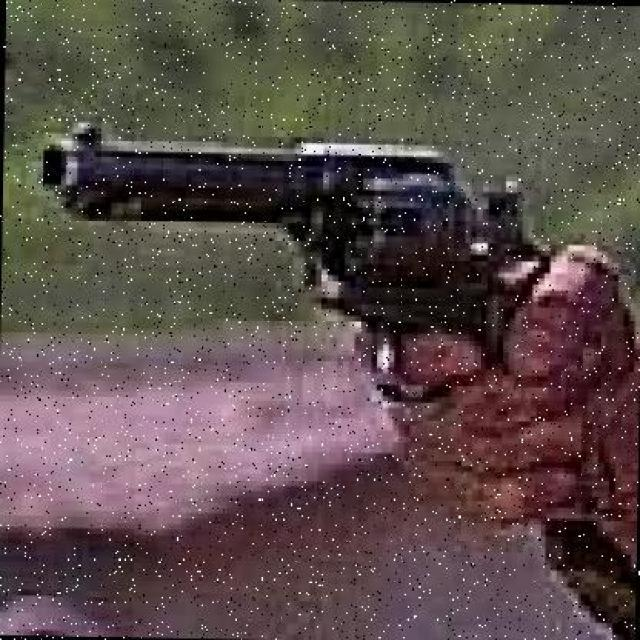rifle: (38, 120, 630, 385)
